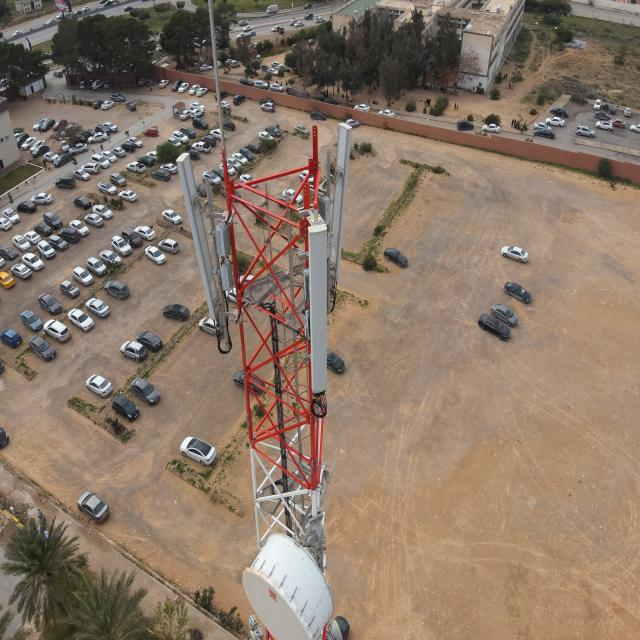Ground Based: (176, 0, 351, 640)
